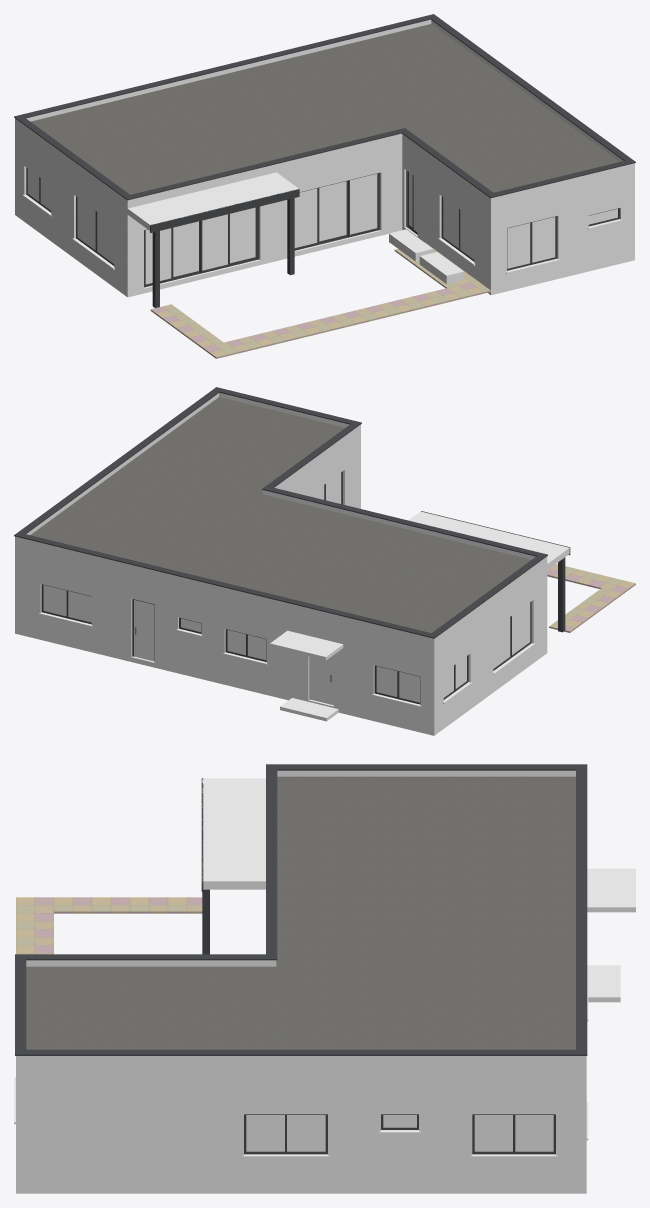
Rendered from coastal_villa.obj.
3 renders of one model, top to bottom at view 1: azimuth 30°, elevation 25°; view 2: azimuth 150°, elevation 25°; view 3: azimuth 270°, elevation 25°, orthographic. The views are drawn at different scales.
Bounding box in the file's own units: 18.1 × 4.04 × 16.35.
Materials: 17 (9 with a texture image).
